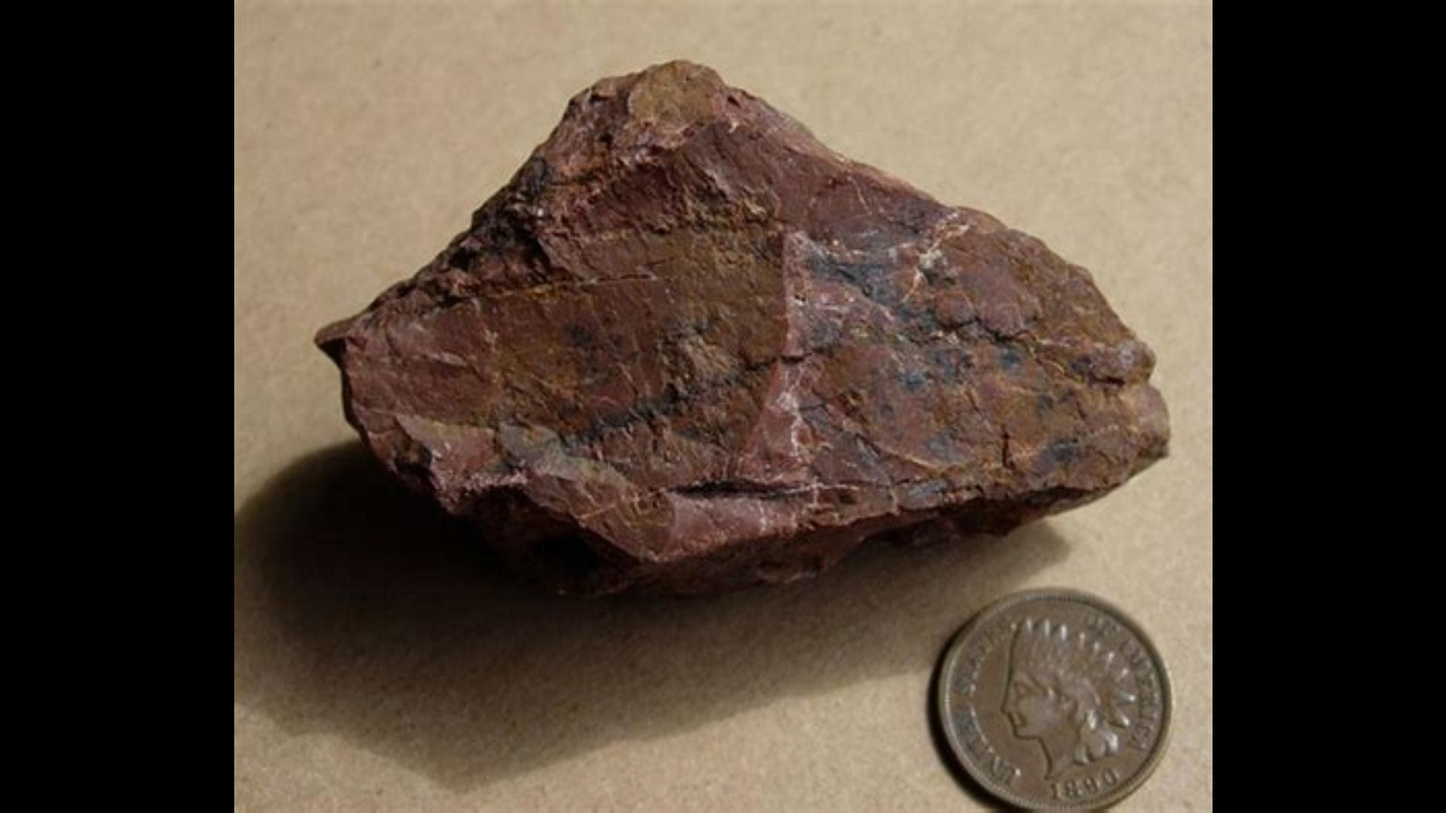rock: (316, 62, 1167, 586)
